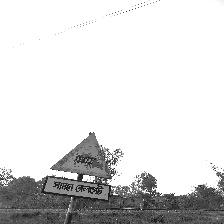Rail-crossing: (38, 122, 116, 207)
